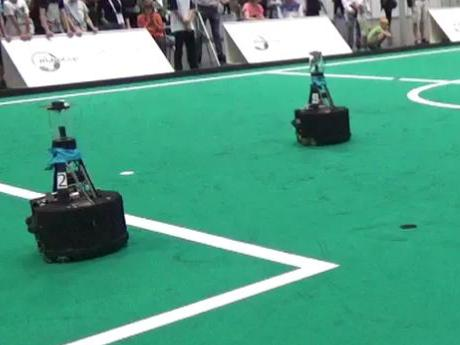robot: (24, 101, 130, 262), (291, 51, 354, 152)
